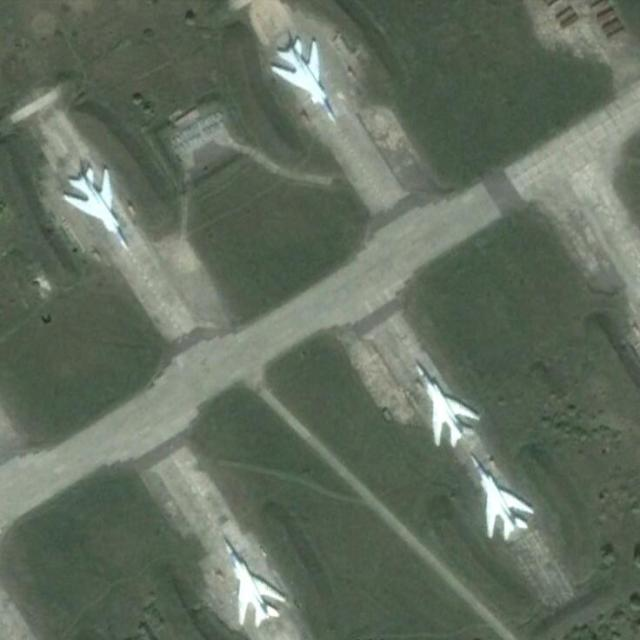fighter jet: (402, 363, 482, 448), (474, 460, 539, 548), (57, 164, 130, 236), (271, 35, 335, 114), (219, 547, 284, 624)
